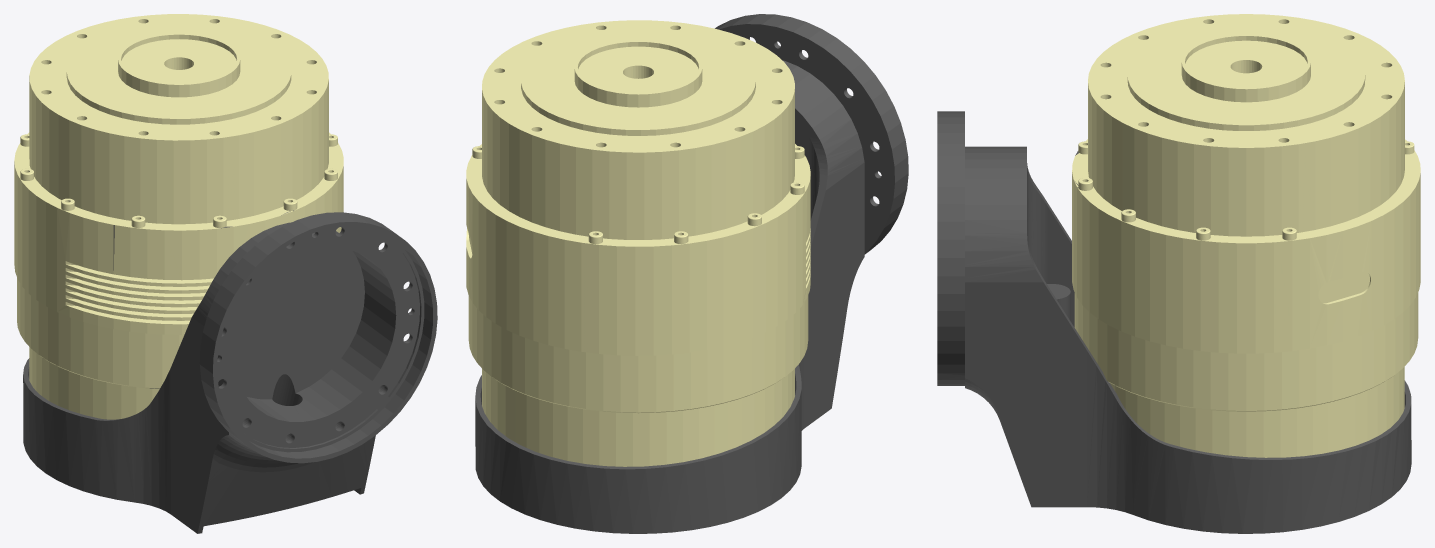
3 renders of one model, left to right at view 1: azimuth 30°, elevation 25°; view 2: azimuth 150°, elevation 25°; view 3: azimuth 270°, elevation 25°, orthographic. The views are drawn at different scales.
Visible parts, largest first — view 1: link2; view 2: link2; view 3: link2.
Part boxes in pixels (x1,y1,x2,y2): link2: (14, 14, 437, 533); link2: (466, 14, 908, 533); link2: (937, 14, 1420, 533).
Bounding box in the file's own units: 0.1319 × 0.183 × 0.168.
